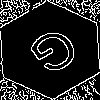G: (25, 25, 89, 85)
